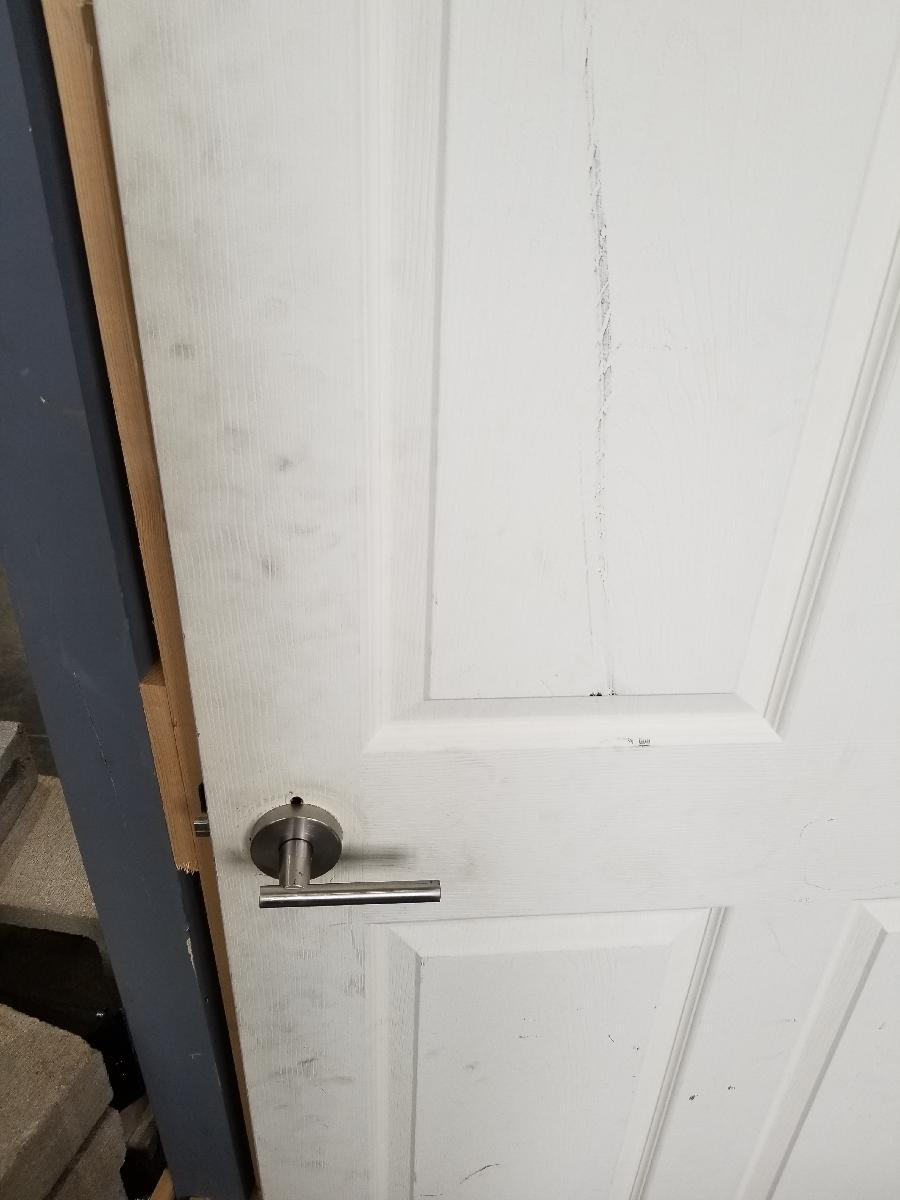doorHandle: (236, 793, 463, 927)
